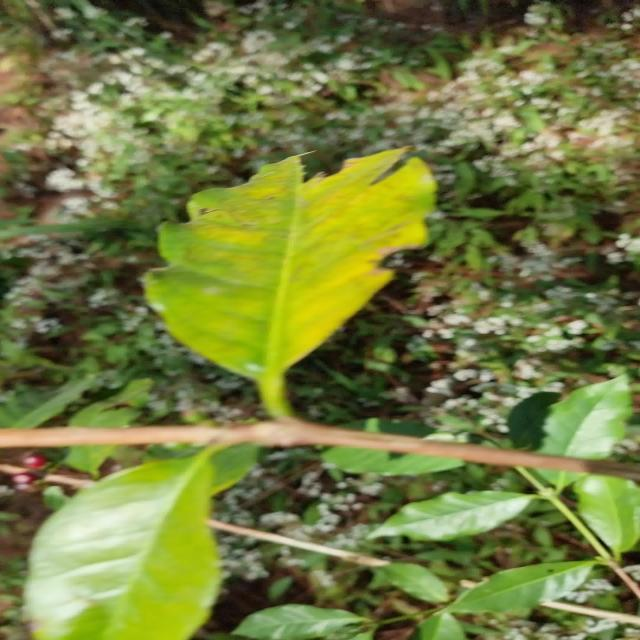leaves: (111, 63, 470, 415), (25, 462, 214, 640)
